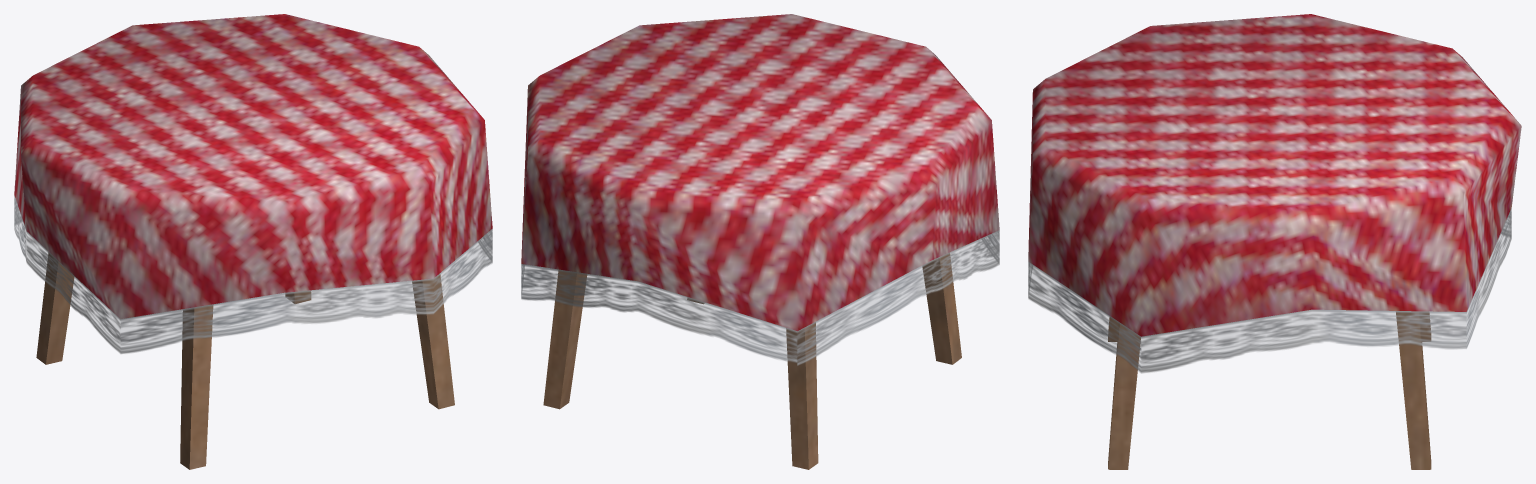
The model's file is break_room_table.gltf.
The picture shows the model from 3 angles, left to right: view 1: azimuth 30°, elevation 25°; view 2: azimuth 150°, elevation 25°; view 3: azimuth 270°, elevation 25°; orthographic projection. The views are drawn at different scales.
Visible parts, largest first — view 1: Table_01; view 2: Table_01; view 3: Table_01.
Part boxes in pixels (x1=…): Table_01: x1=14, y1=14, x2=492, y2=469; Table_01: x1=521, y1=14, x2=999, y2=469; Table_01: x1=1028, y1=14, x2=1521, y2=469.
Bounding box in the file's own units: 1.42 × 0.9079 × 1.41.
1 material, 1 textured.
